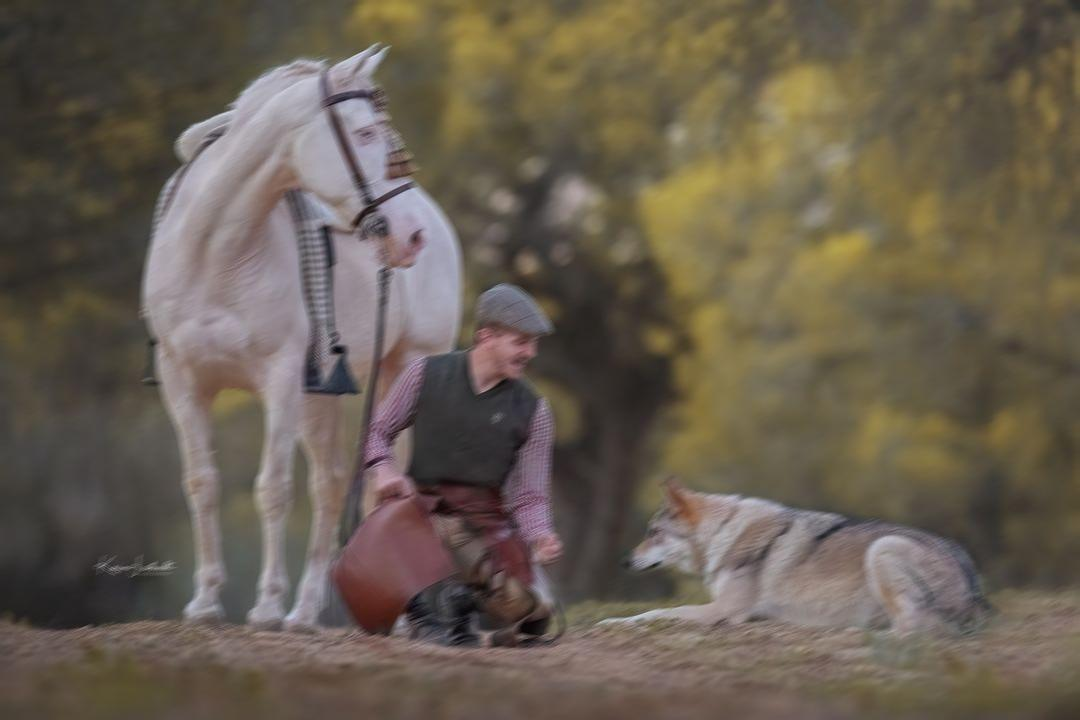horse: (140, 41, 462, 634), (592, 474, 1000, 639)
